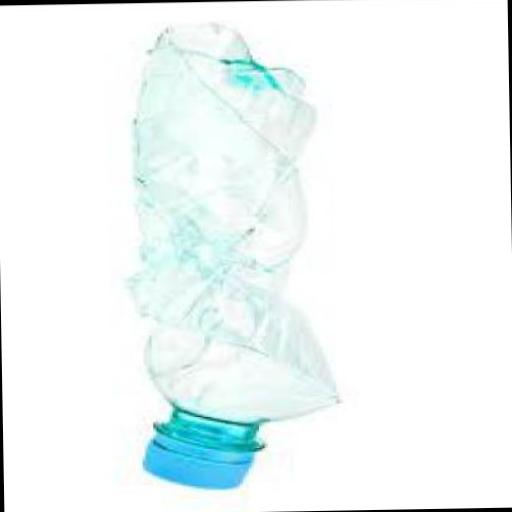plastic: (132, 19, 349, 492), (142, 426, 269, 493)
